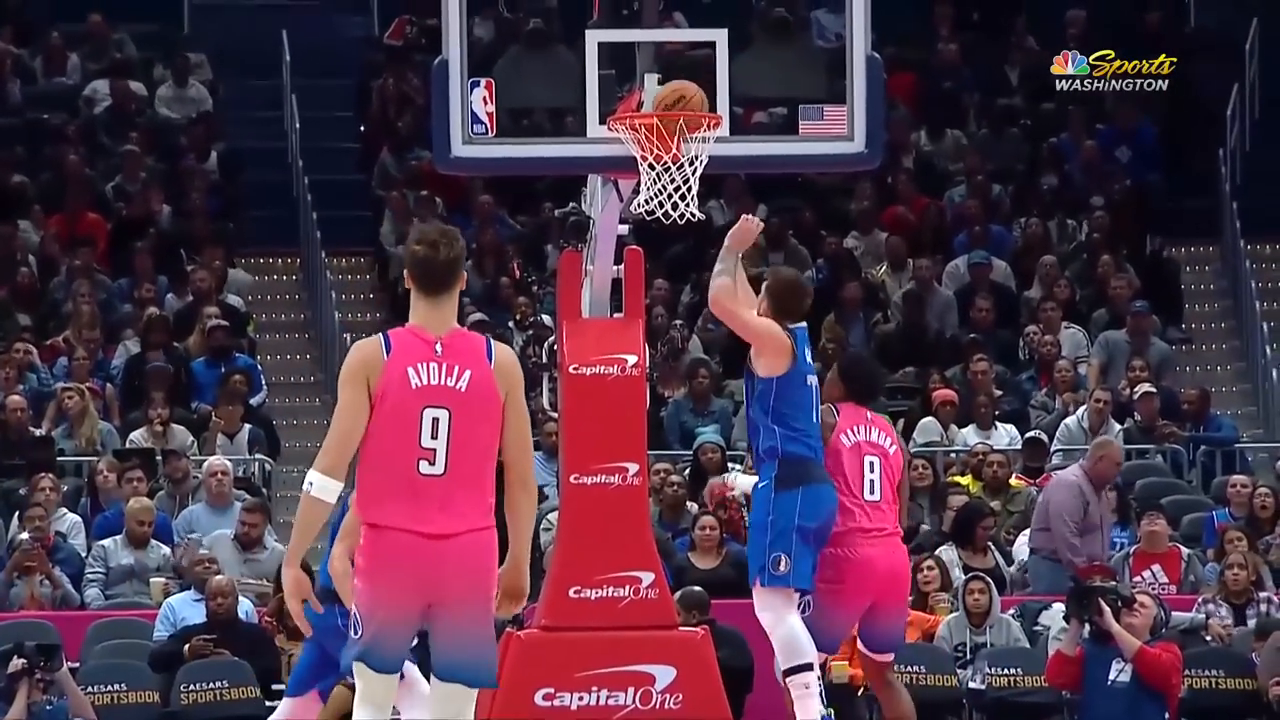ball: (649, 75, 712, 140)
net: (604, 106, 729, 231)
